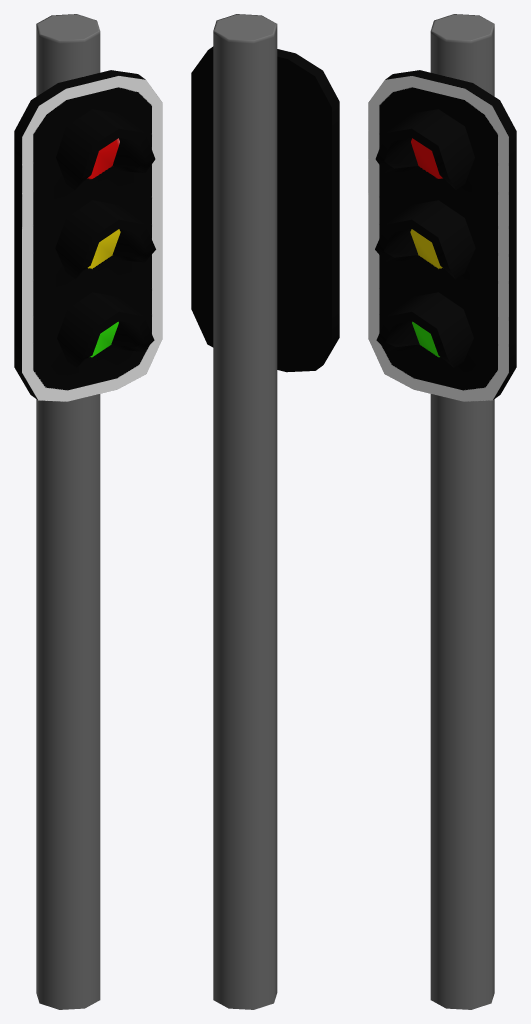
Rendered from sm_trafficLight_GEO 1.fbx.
3 views of the same model, side by side, from view 1: azimuth 30°, elevation 25°; view 2: azimuth 150°, elevation 25°; view 3: azimuth 330°, elevation 25° (orthographic).
Parts seen in each view (by area): view 1: traffic_lightPole_GEO; view 2: traffic_lightPole_GEO; view 3: traffic_lightPole_GEO.
Part boxes in pixels (bbox=[...]): traffic_lightPole_GEO: bbox=[14, 14, 162, 1009]; traffic_lightPole_GEO: bbox=[191, 14, 339, 1009]; traffic_lightPole_GEO: bbox=[368, 14, 516, 1009].
Bounding box in the file's own units: 0.532 × 3.5 × 0.4411.
Materials: 1 (1 with a texture image).
